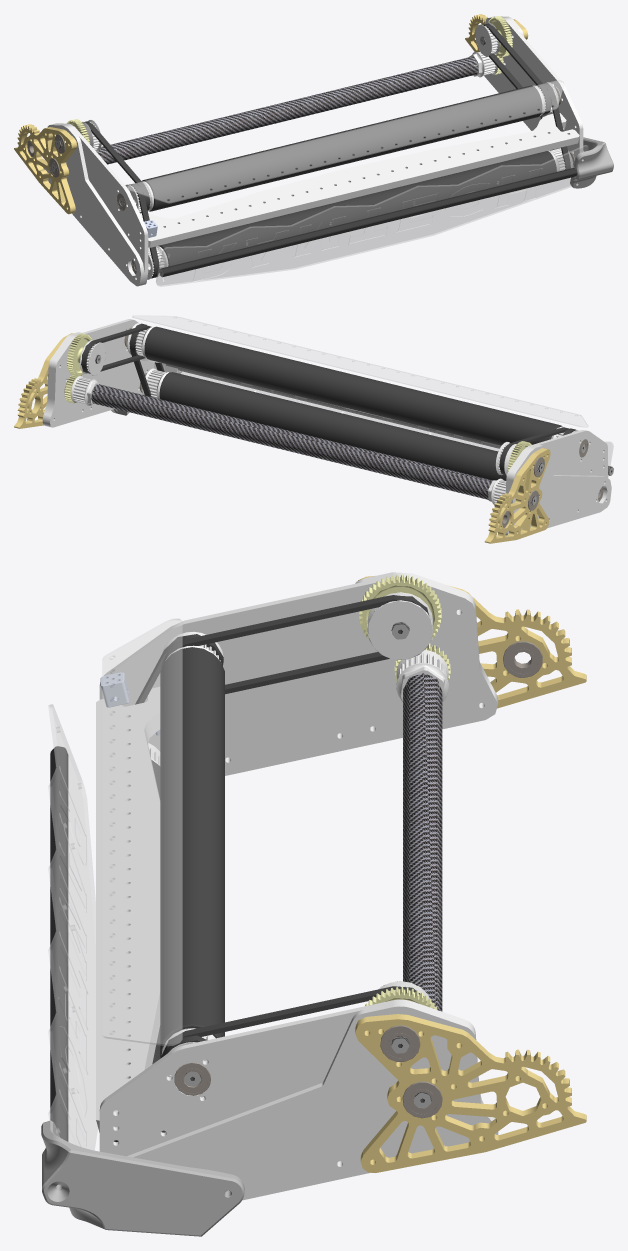
File: 2026ricoV5intake.glb
The picture shows the model from 3 angles, top to bottom: view 1: azimuth 30°, elevation 25°; view 2: azimuth 150°, elevation 25°; view 3: azimuth 270°, elevation 25°; orthographic projection. The views are drawn at different scales.
Visible parts, largest first — view 1: 20901A - Intake Tube Roller-2 - Part, 20101B - Intake Main Plate-1 - Part, 20109D - Kicker Ramp-1 - Part, 20109C - Intake Front Upper-1 - Part, 31802A - Roller Tube-3 - Part, 21802B - Roller Shaft-1 - Part, 20103A - Intake Plate Pivot Attachment Plate-1 - Part, 20801D - Front Roller Pulley-6 - Part, 20305A - Kicker Side Mirror-2 - Part, 74200_20DP 05 HEX Gear-1 - Part 2, 75000_Flanged Bearing-1 3 - Part; view 2: 20901A - Intake Tube Roller-2 - Part, 20101B - Intake Main Plate-1 - Part, 31802A - Roller Tube-3 - Part, 20109C - Intake Front Upper-1 - Part, 20103A - Intake Plate Pivot Attachment Plate-1 - Part, 20801D - Front Roller Pulley-6 - Part, 20109D - Kicker Ramp-1 - Part, 21802B - Roller Shaft-1 - Part, 74200_20DP 05 HEX Gear-1 - Part 2, 75000_Flanged Bearing-1 3 - Part; view 3: 20101B - Intake Main Plate-1 - Part, 20109C - Intake Front Upper-1 - Part, 20901A - Intake Tube Roller-2 - Part, 20103A - Intake Plate Pivot Attachment Plate-1 - Part, 20109D - Kicker Ramp-1 - Part, 20305A - Kicker Side Mirror-2 - Part, 31802A - Roller Tube-3 - Part, 21802B - Roller Shaft-1 - Part, 20801D - Front Roller Pulley-6 - Part, 75000_Flanged Bearing-1 3 - Part, 74200_20DP 05 HEX Gear-1 - Part 2, 21802B - Roller Shaft-1 - Part 2.
Part boxes in pixels (box(x1,y1,x2,y2)): 20901A - Intake Tube Roller-2 - Part: box(84, 23, 570, 278); 20101B - Intake Main Plate-1 - Part: box(43, 16, 583, 286); 20109D - Kicker Ramp-1 - Part: box(156, 145, 588, 286); 20109C - Intake Front Upper-1 - Part: box(127, 80, 563, 203); 31802A - Roller Tube-3 - Part: box(97, 56, 478, 164); 21802B - Roller Shaft-1 - Part: box(53, 36, 576, 276); 20103A - Intake Plate Pivot Attachment Plate-1 - Part: box(14, 14, 528, 214); 20801D - Front Roller Pulley-6 - Part: box(81, 22, 573, 279); 20305A - Kicker Side Mirror-2 - Part: box(570, 137, 613, 188); 74200_20DP 05 HEX Gear-1 - Part 2: box(66, 16, 512, 143); 75000_Flanged Bearing-1 3 - Part: box(27, 57, 574, 274); 20901A - Intake Tube Roller-2 - Part: box(81, 323, 576, 480); 20101B - Intake Main Plate-1 - Part: box(42, 319, 611, 535); 31802A - Roller Tube-3 - Part: box(91, 384, 492, 499); 20109C - Intake Front Upper-1 - Part: box(132, 315, 587, 427); 20103A - Intake Plate Pivot Attachment Plate-1 - Part: box(14, 333, 550, 543); 20801D - Front Roller Pulley-6 - Part: box(71, 323, 578, 504); 20109D - Kicker Ramp-1 - Part: box(164, 364, 613, 477); 21802B - Roller Shaft-1 - Part: box(95, 355, 612, 504); 74200_20DP 05 HEX Gear-1 - Part 2: box(64, 333, 531, 471); 75000_Flanged Bearing-1 3 - Part: box(64, 327, 603, 527); 20101B - Intake Main Plate-1 - Part: box(96, 572, 498, 1200); 20109C - Intake Front Upper-1 - Part: box(102, 619, 182, 1045); 20901A - Intake Tube Roller-2 - Part: box(114, 595, 429, 1142); 20103A - Intake Plate Pivot Attachment Plate-1 - Part: box(355, 575, 586, 1172); 20109D - Kicker Ramp-1 - Part: box(48, 704, 97, 1150); 20305A - Kicker Side Mirror-2 - Part: box(41, 1120, 244, 1236); 31802A - Roller Tube-3 - Part: box(403, 673, 442, 1011); 21802B - Roller Shaft-1 - Part: box(50, 622, 431, 1141); 20801D - Front Roller Pulley-6 - Part: box(148, 592, 448, 1097); 75000_Flanged Bearing-1 3 - Part: box(174, 641, 542, 1118); 74200_20DP 05 HEX Gear-1 - Part 2: box(359, 574, 450, 1009); 21802B - Roller Shaft-1 - Part 2: box(184, 622, 431, 1108).
Size of the model in its own units: 0.8333 by 0.2177 by 0.4213.
Materials: 12 (1 with a texture image).
